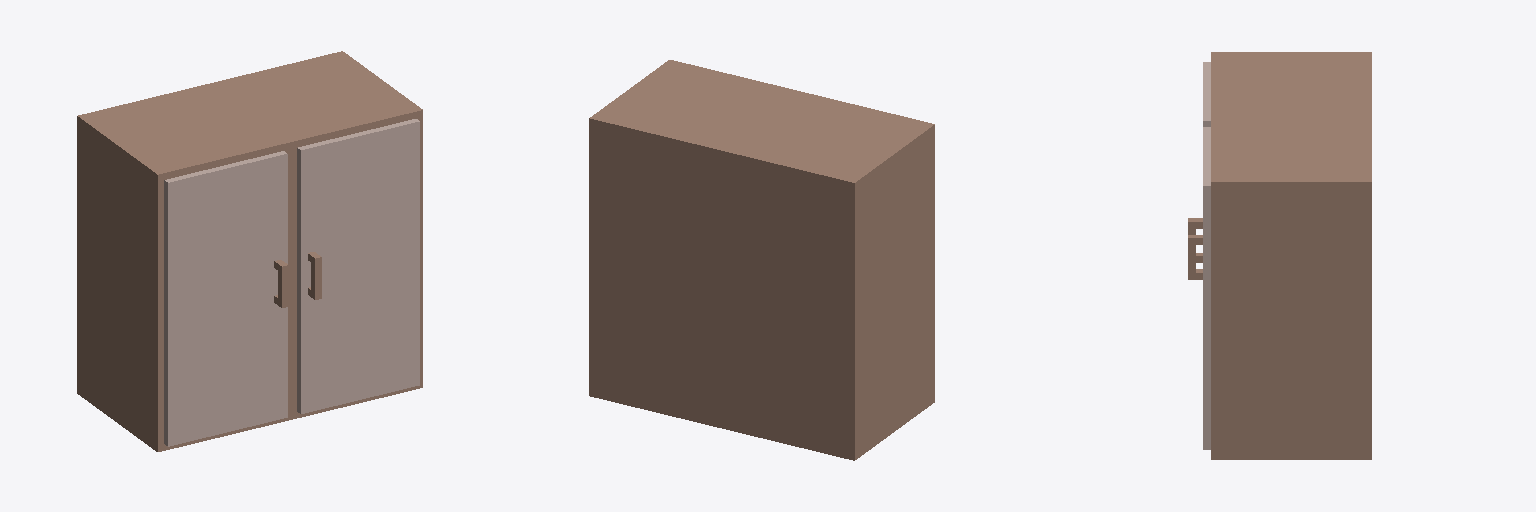
The picture shows the model from 3 angles: view 1: azimuth 30°, elevation 25°; view 2: azimuth 150°, elevation 25°; view 3: azimuth 270°, elevation 25°; orthographic projection.
Parts seen in each view (by area): view 1: object 1; view 2: object 1; view 3: object 1.
Part boxes in pixels (bbox=[...]): object 1: bbox=[77, 51, 422, 451]; object 1: bbox=[589, 60, 934, 460]; object 1: bbox=[1188, 52, 1371, 459].
Bounding box in the file's own units: 4 × 4 × 2.4.
Materials: 1 (1 with a texture image).